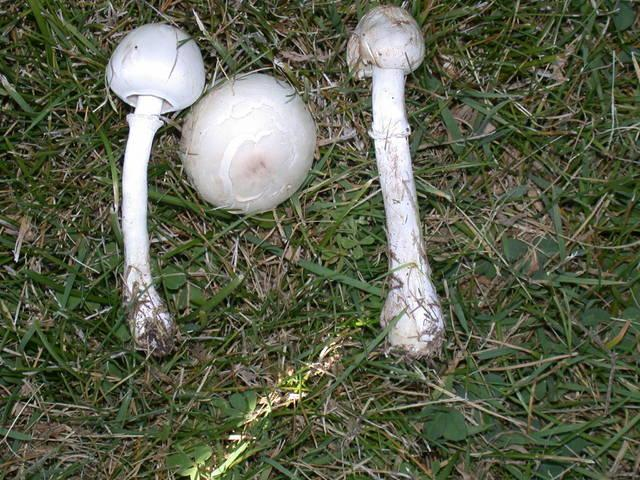poisonous_mushroom: (344, 4, 446, 359), (103, 21, 206, 357), (189, 71, 308, 236)
